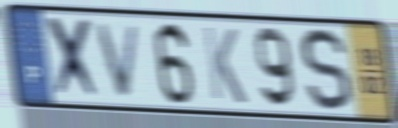6: (151, 19, 196, 107)
9: (253, 26, 297, 111)
K: (200, 23, 249, 107)
S: (298, 25, 355, 115)
V: (93, 21, 144, 100)
X: (43, 14, 104, 104)
